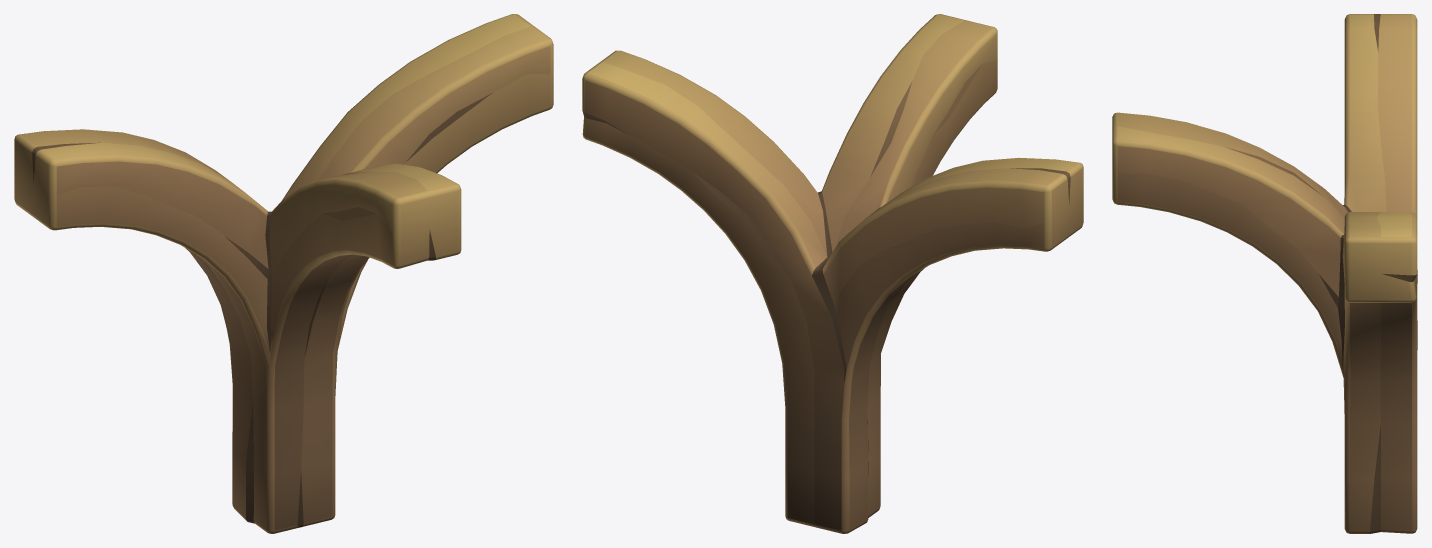
The model's file is tavern_wooden_arch_3.fbx.
The picture shows the model from 3 angles, left to right: view 1: azimuth 30°, elevation 25°; view 2: azimuth 150°, elevation 25°; view 3: azimuth 270°, elevation 25°; orthographic projection. The views are drawn at different scales.
Visible parts, largest first — view 1: tavern_wooden_arch_3_LOD0; view 2: tavern_wooden_arch_3_LOD0; view 3: tavern_wooden_arch_3_LOD0.
Boxes of the visible parts, left/top/right/bottom form: tavern_wooden_arch_3_LOD0: left=14, top=14, right=553, bottom=533; tavern_wooden_arch_3_LOD0: left=582, top=14, right=1083, bottom=533; tavern_wooden_arch_3_LOD0: left=1112, top=14, right=1417, bottom=533.
Size of what is drawn, in the model's own units: 400 by 324 by 227.
